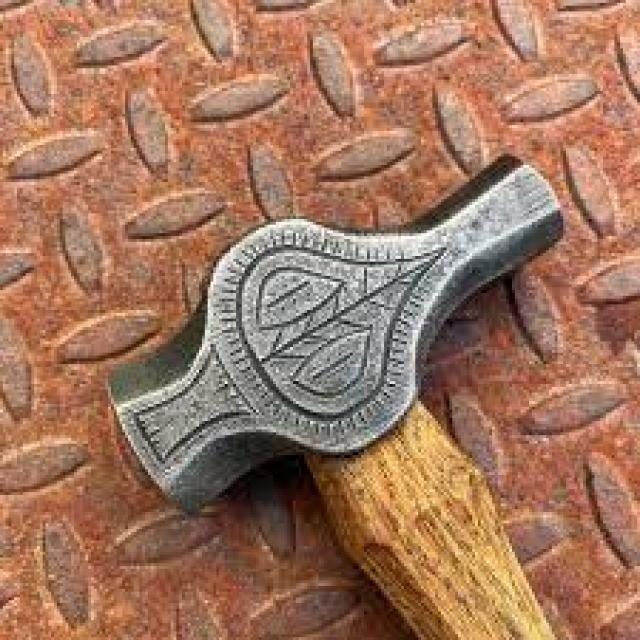hammer: (101, 148, 579, 640)
